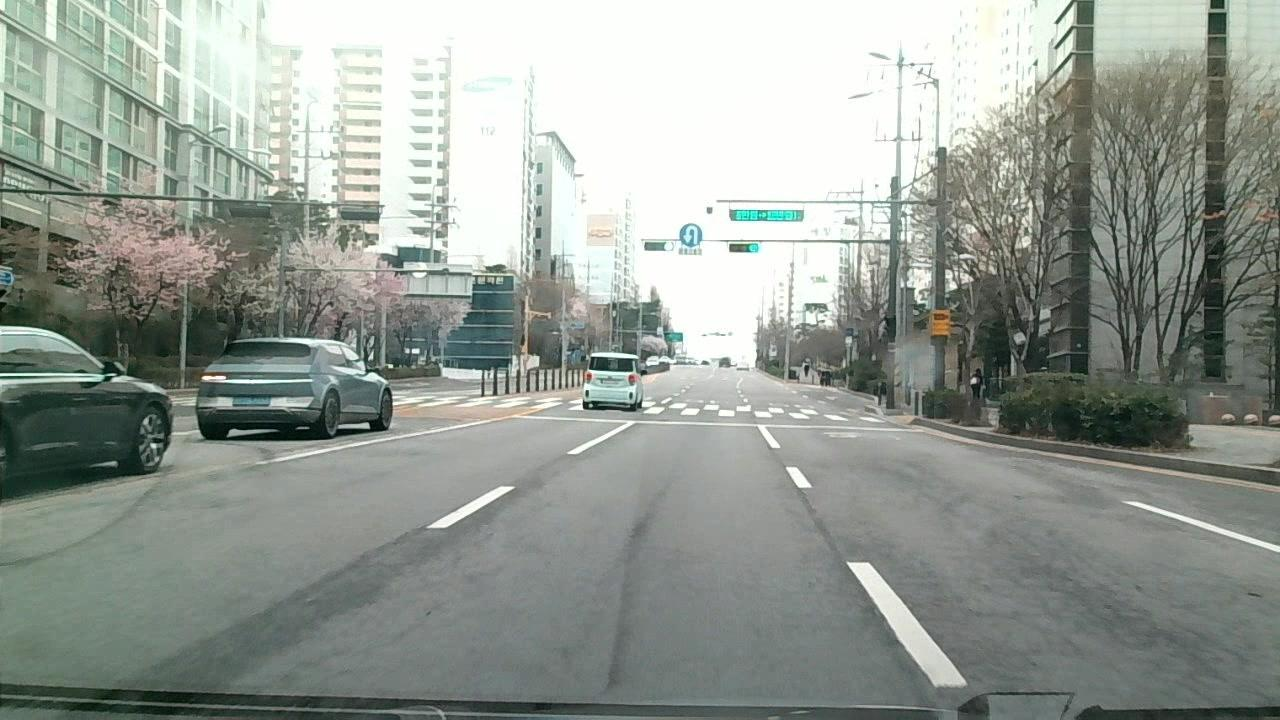vcrack: (606, 540, 638, 695)
